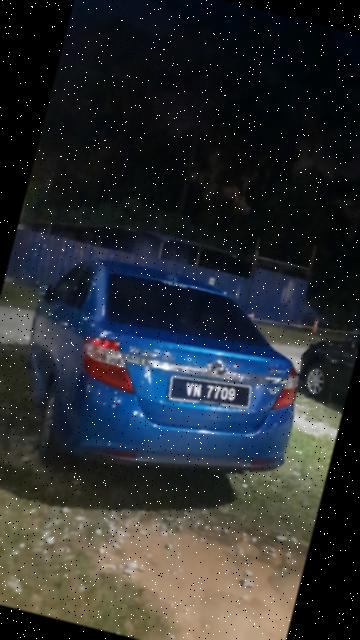License_Plate: (169, 365, 256, 418)
car: (1, 242, 326, 515)
